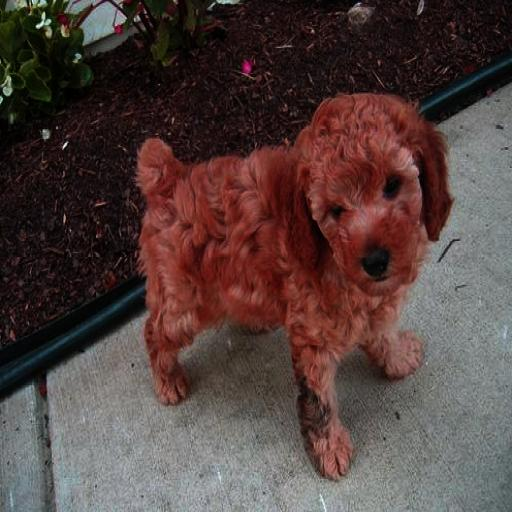dog_face: (284, 104, 454, 298)
